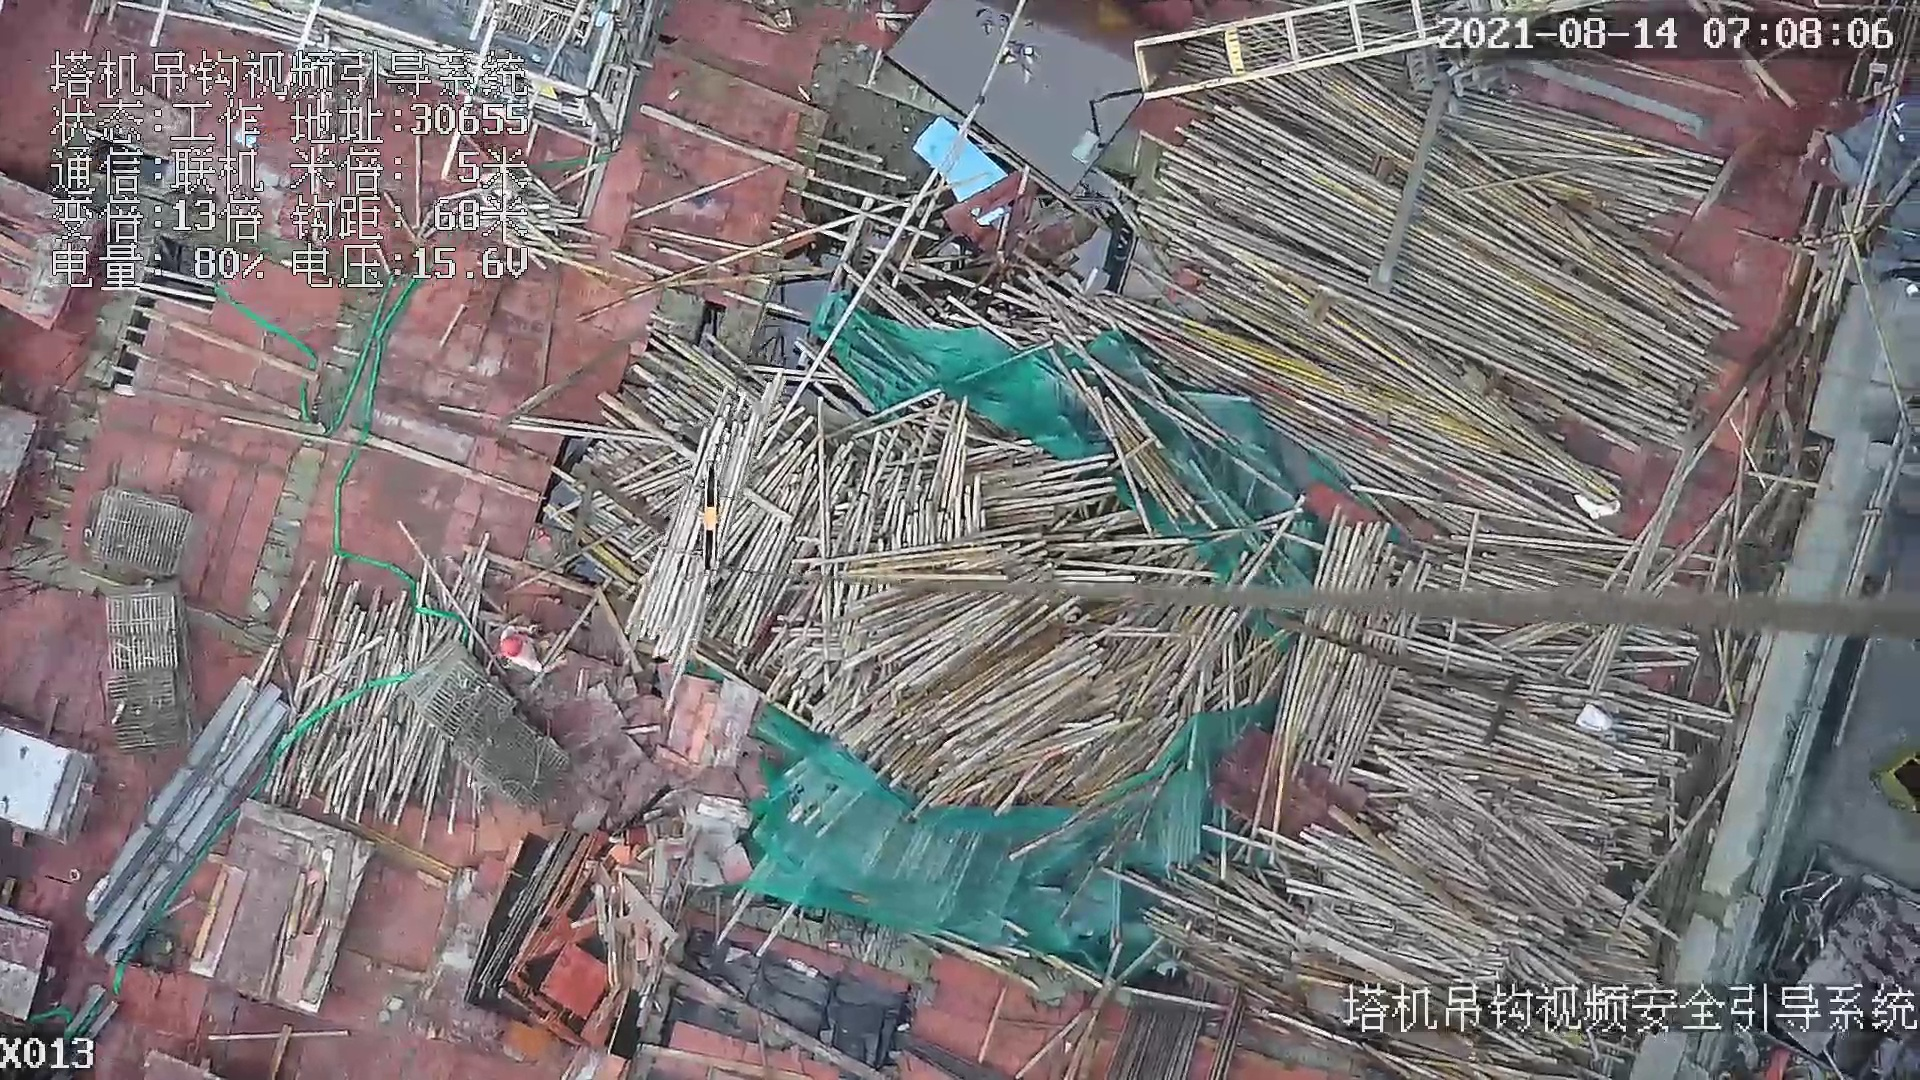helmet: (498, 638, 524, 657)
hook: (699, 458, 723, 577)
person: (505, 623, 551, 674)
